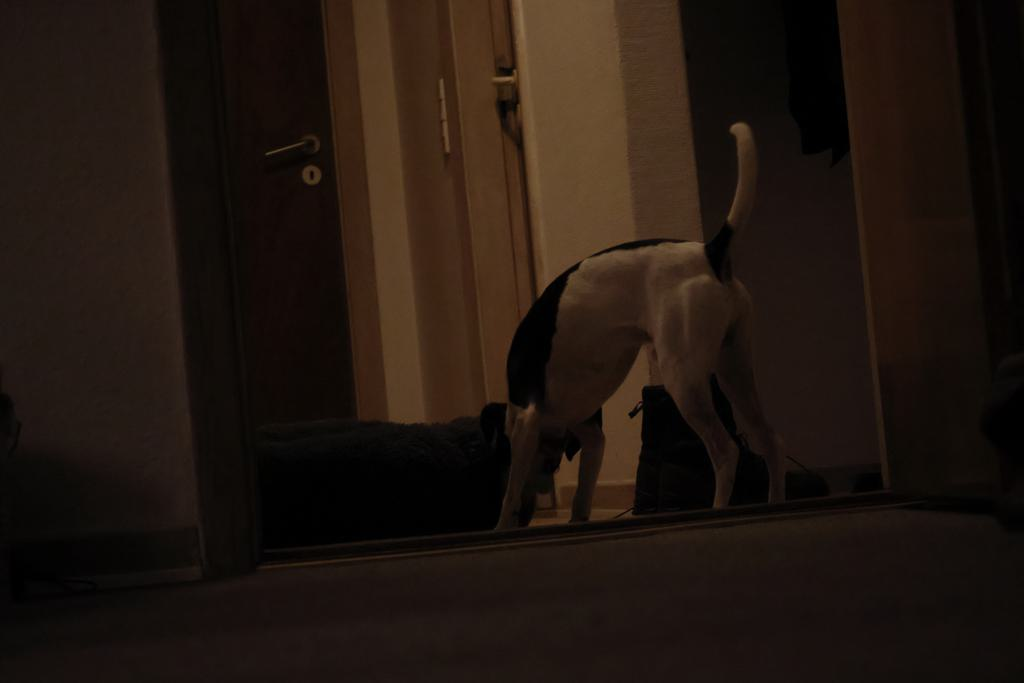Dog: (496, 113, 799, 535)
